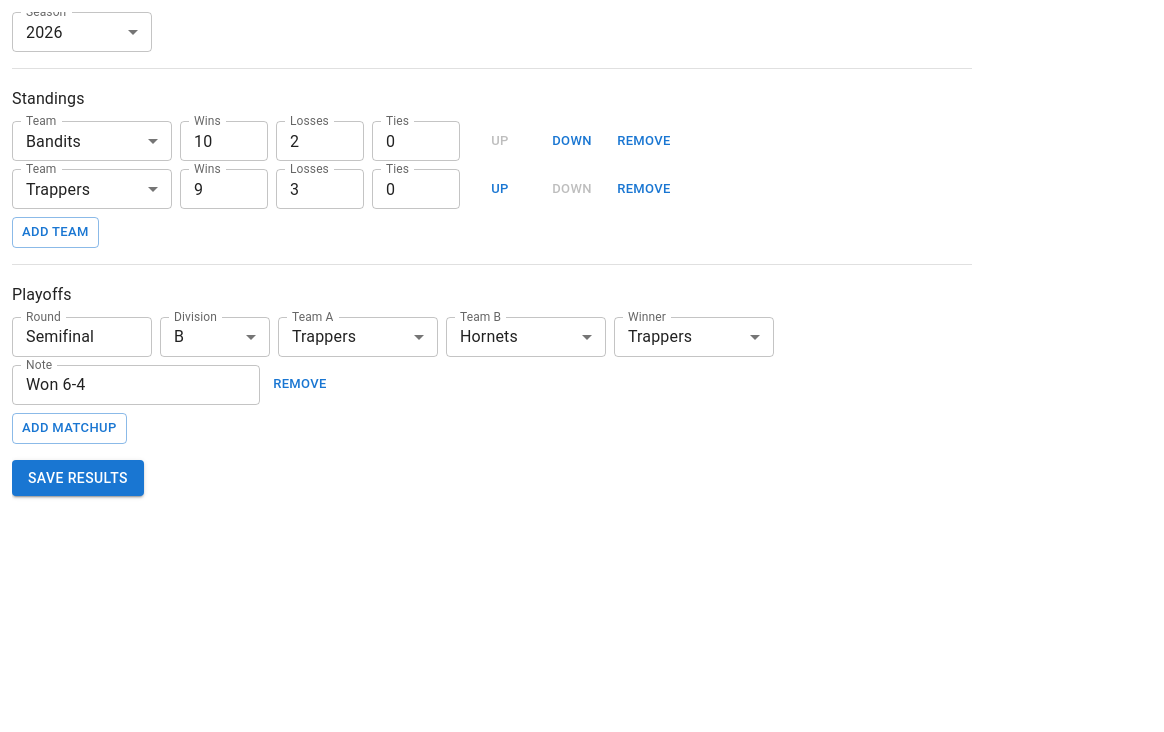
Test: SeasonResults › posts a body satisfying SeasonResultsSchema after editing and adding rows
The image size is (1164, 732).
Expected: the heading "Standings" is shown, [12,89,85,108]
Replace the text in the 1st number field labelled "Wins" with "11" at (224,141), box [180,121,268,161]
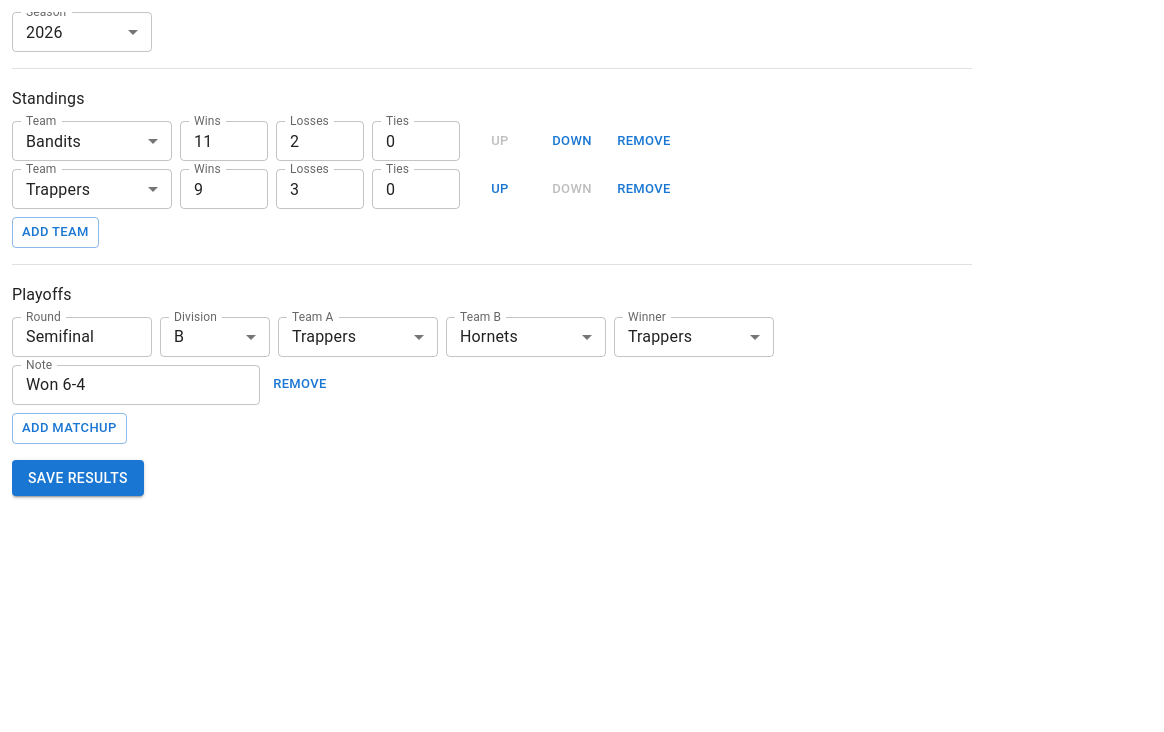
Click the button "Add matchup" at (69,428), box [12,413,127,444]
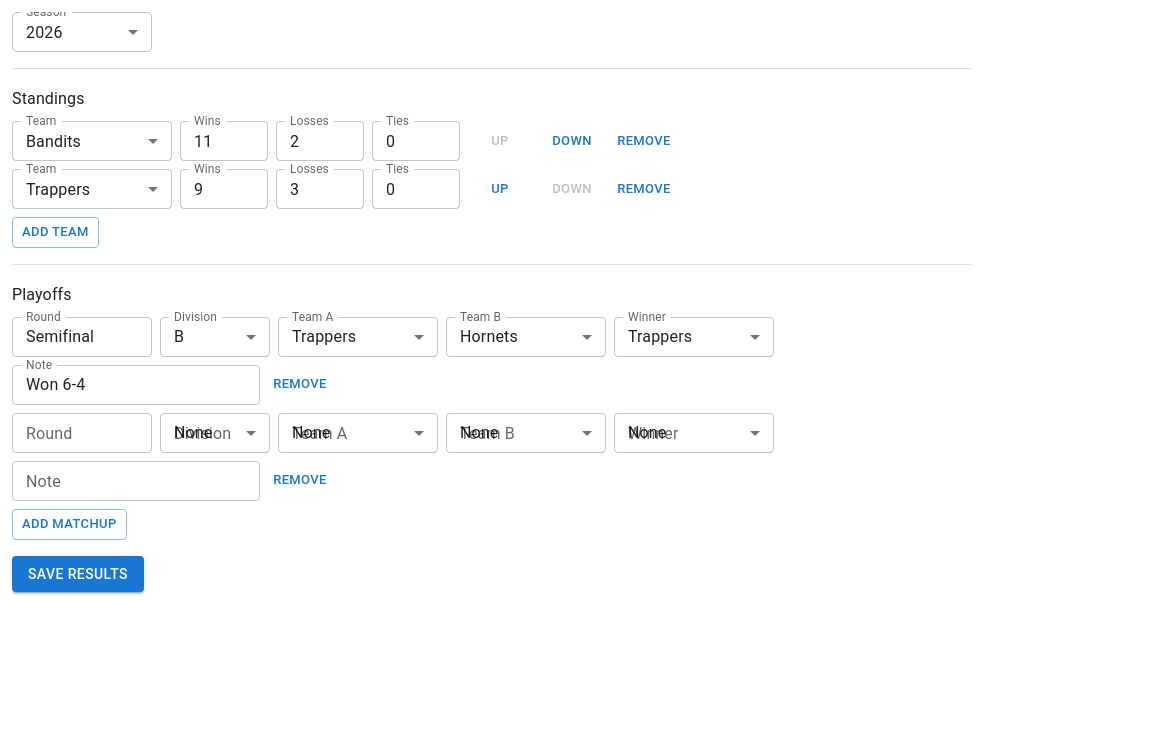
Type "Final" into the 2nd field labelled "Round" at (82,433), box [12,413,152,453]
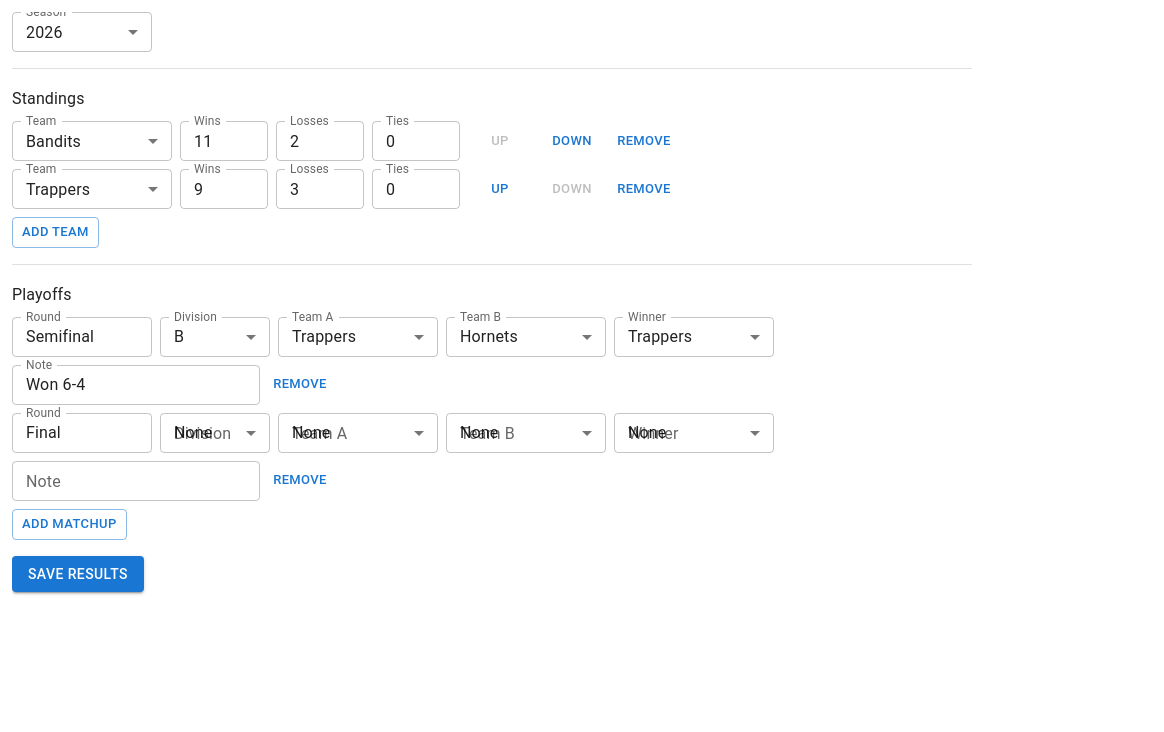
Select "Bandits" in the 2nd dropdown labelled "Team A" at (358,433), box [278,413,438,453]
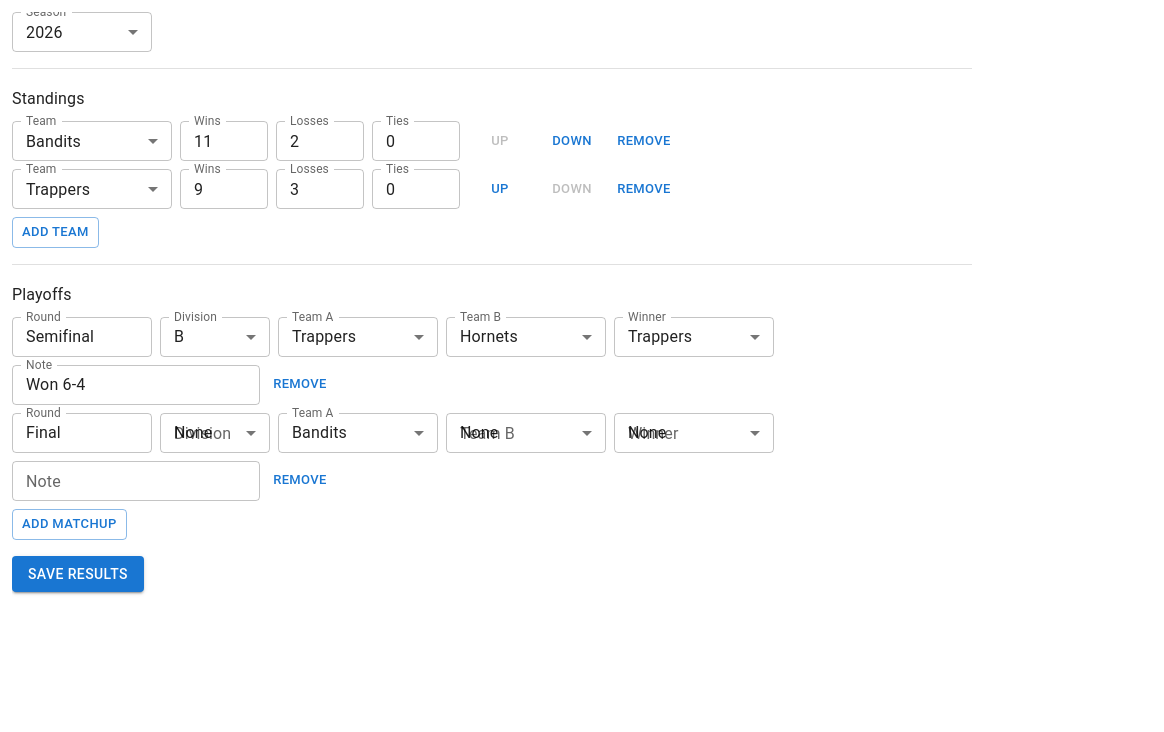
Select "Trappers" in the 2nd dropdown labelled "Team B" at (526,433), box [446,413,606,453]
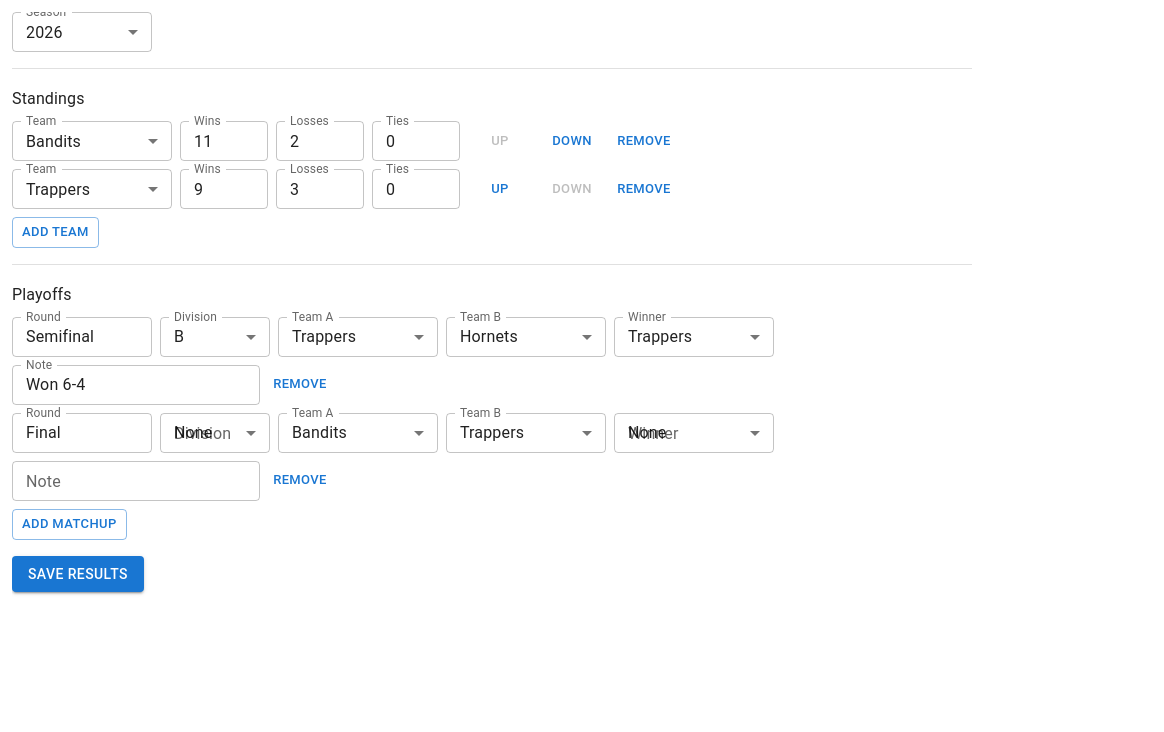
Click the button "Save results" at (78,574), box [12,556,144,592]
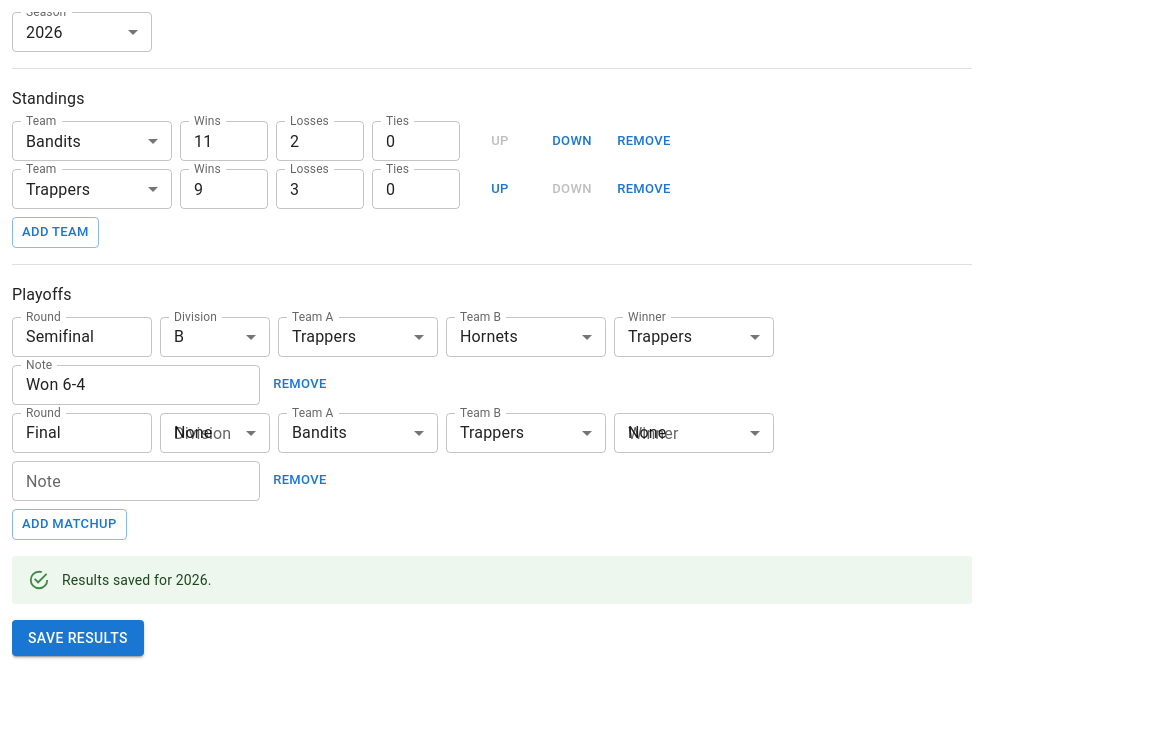
Now the text "Results saved for 2026." is shown, box [62,572,212,588]
